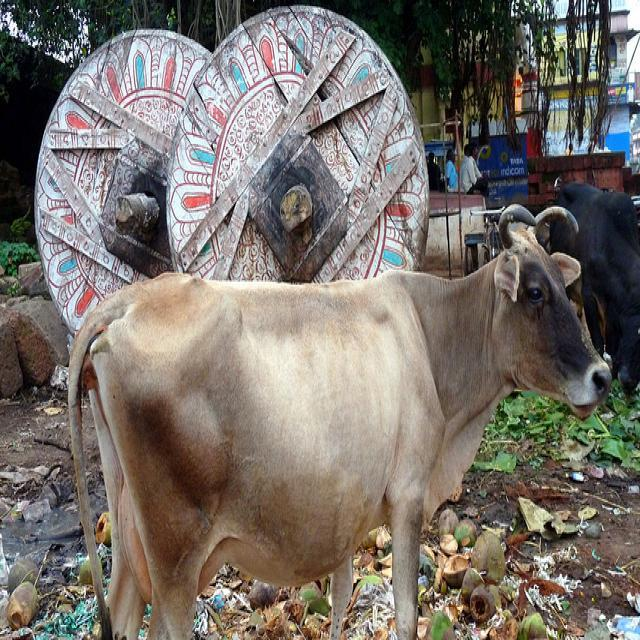cow: (64, 203, 615, 630)
